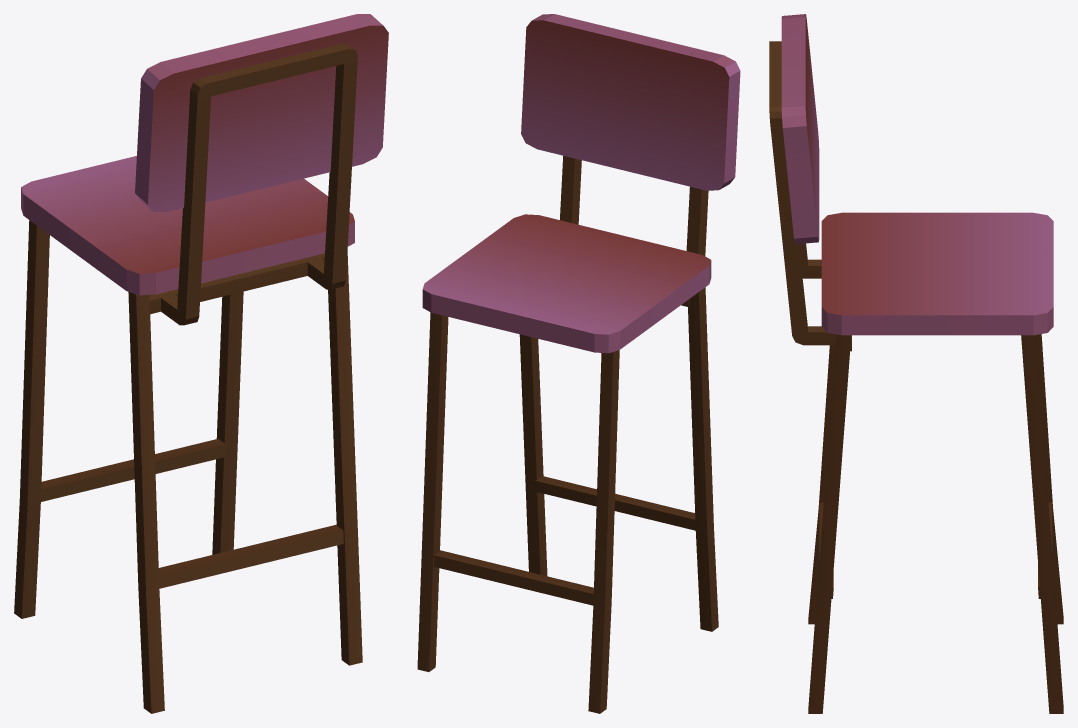
The model's file is B01_Chaise_bar_2.001.fbx.
3 renders of one model, left to right at view 1: azimuth 30°, elevation 25°; view 2: azimuth 150°, elevation 25°; view 3: azimuth 270°, elevation 25°, orthographic. The views are drawn at different scales.
Visible parts, largest first — view 1: B01_Chaise_bar_2.001; view 2: B01_Chaise_bar_2.001; view 3: B01_Chaise_bar_2.001.
Boxes of the visible parts, box(x1,y1,x2,y2) form: B01_Chaise_bar_2.001: box(14, 14, 388, 713); B01_Chaise_bar_2.001: box(417, 14, 740, 713); B01_Chaise_bar_2.001: box(769, 14, 1063, 713).
Bounding box in the file's own units: 49.44 × 131 × 57.76.
